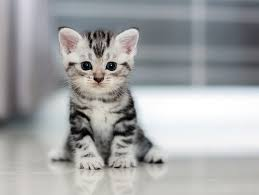Gato: (54, 19, 175, 169)
